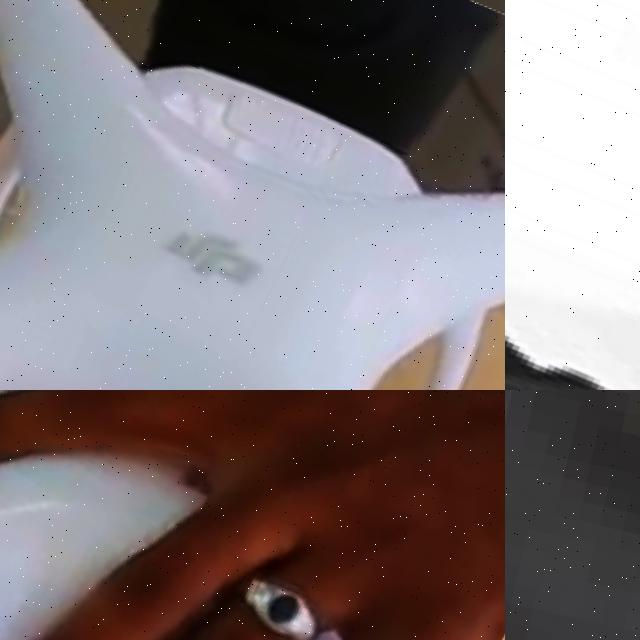drone: (0, 0, 505, 390), (0, 390, 505, 640), (505, 0, 640, 390)
